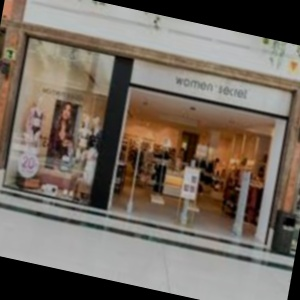women_secret: (142, 38, 300, 125)
